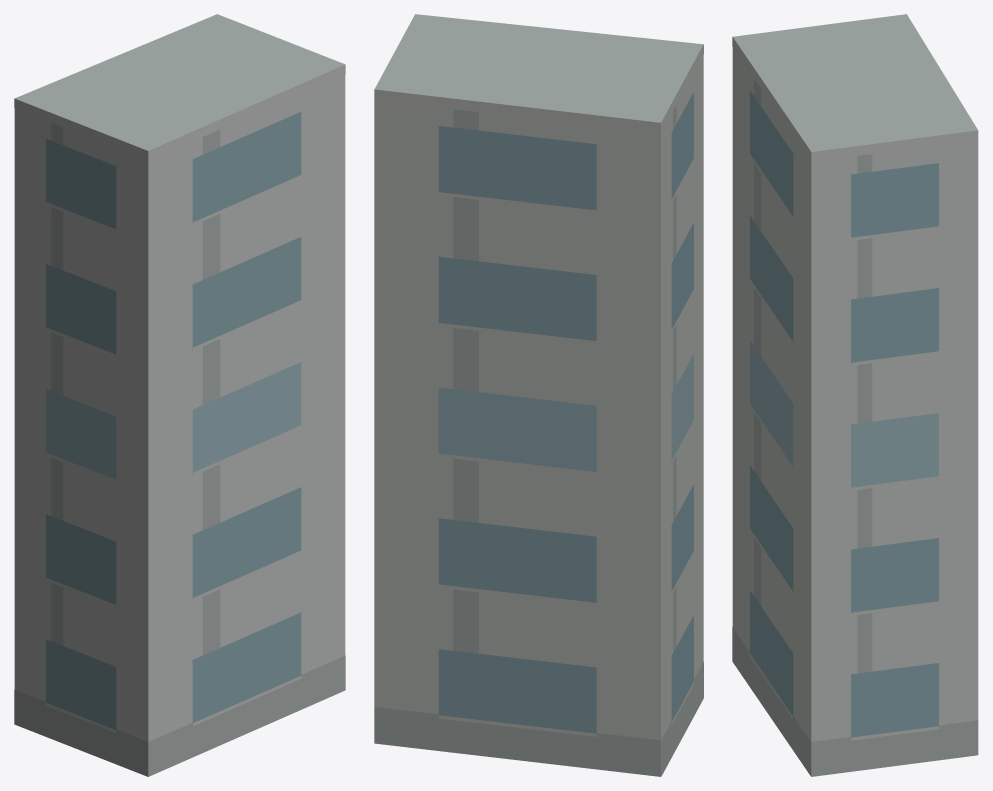
The model's file is survey-upis-32919655.glb.
The picture shows the model from 3 angles, left to right: view 1: azimuth 30°, elevation 25°; view 2: azimuth 150°, elevation 25°; view 3: azimuth 270°, elevation 25°; orthographic projection. The views are drawn at different scales.
Visible parts, largest first — view 1: survey-upis-32919655.tmp; view 2: survey-upis-32919655.tmp; view 3: survey-upis-32919655.tmp.
Boxes of the visible parts, x1,y1,x2,y2 form: survey-upis-32919655.tmp: (14,14,345,776); survey-upis-32919655.tmp: (374,14,703,776); survey-upis-32919655.tmp: (732,14,978,776).
Bounding box in the file's own units: 7.23 × 15.25 × 5.44.
